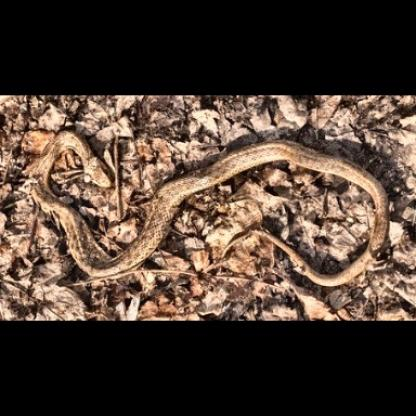Snake: (25, 129, 410, 285)
